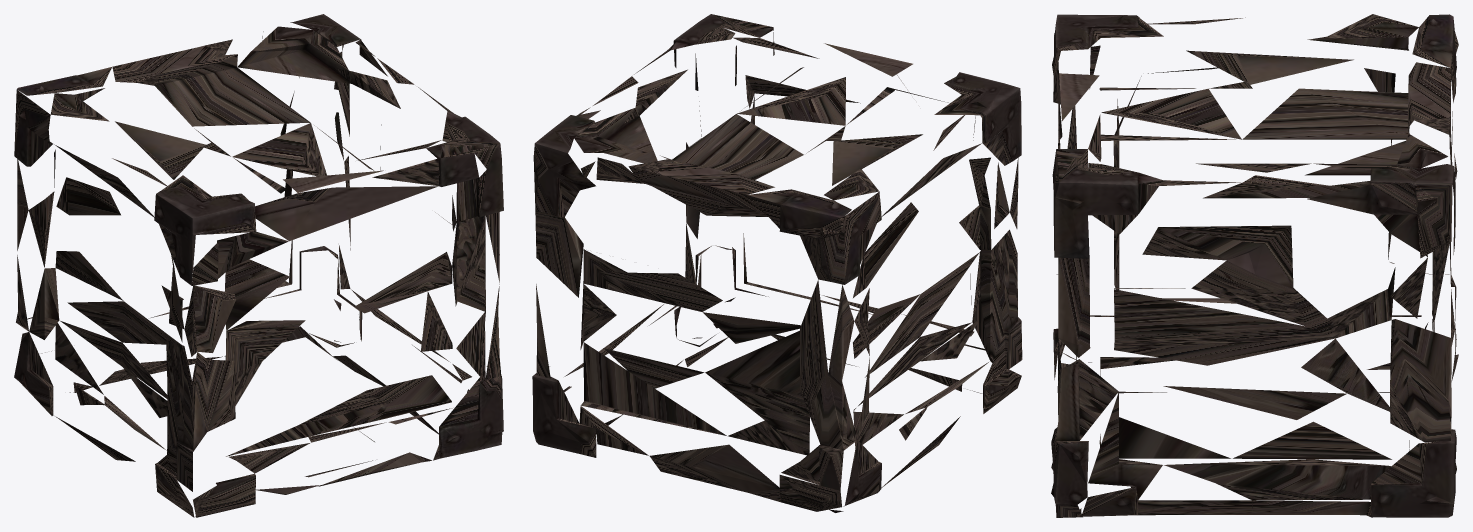
The model's file is prp_crate_a_LOD1.glb.
3 views of the same model, side by side, from view 1: azimuth 30°, elevation 25°; view 2: azimuth 150°, elevation 25°; view 3: azimuth 270°, elevation 25° (orthographic). The views are drawn at different scales.
Visible parts, largest first — view 1: geometry_0; view 2: geometry_0; view 3: geometry_0.
Boxes of the visible parts, <box> form: geometry_0: <box>14,14,503,517</box>; geometry_0: <box>532,14,1022,512</box>; geometry_0: <box>1051,14,1458,517</box>.
Bounding box in the file's own units: 0.9725 × 0.9 × 0.9625.
1 material, 1 textured.
